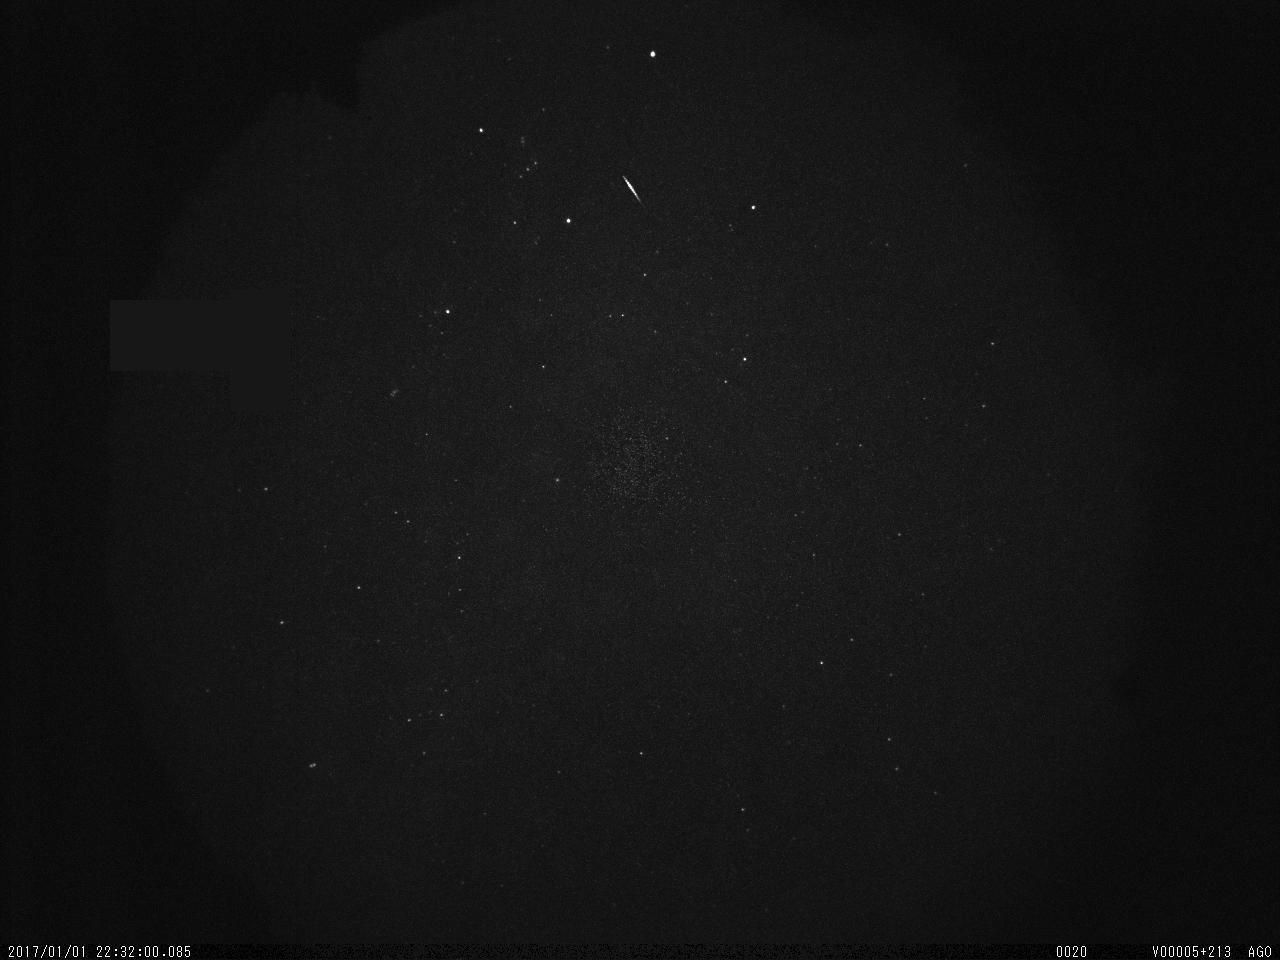Meteor: (621, 173, 644, 206)
